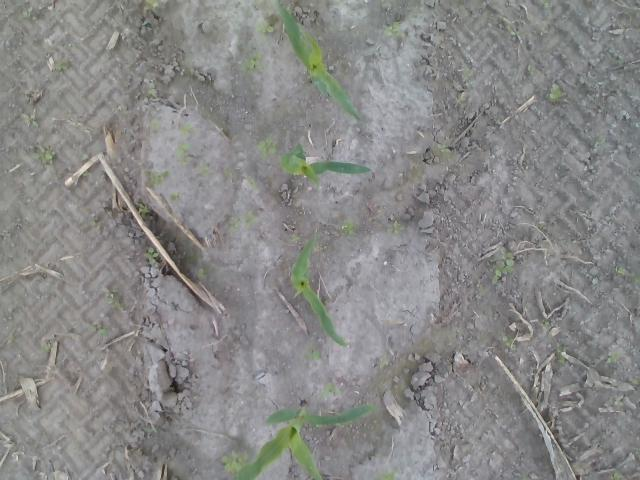Maize: (234, 400, 376, 480), (272, 0, 362, 124), (288, 236, 347, 347), (279, 144, 372, 188)
Weeds: (492, 248, 514, 282), (220, 447, 246, 471), (240, 50, 264, 72), (256, 136, 278, 160), (228, 210, 256, 228), (144, 170, 169, 188), (383, 20, 406, 38), (176, 140, 190, 168), (320, 383, 342, 400), (105, 292, 122, 310), (545, 82, 562, 100), (342, 216, 356, 236), (90, 324, 110, 336), (40, 146, 56, 161), (22, 113, 39, 127), (144, 248, 160, 262), (387, 219, 401, 234), (255, 22, 272, 34), (556, 344, 566, 364), (246, 174, 257, 192), (416, 338, 429, 353), (382, 469, 399, 480), (180, 122, 193, 136), (613, 264, 626, 278), (303, 350, 320, 360), (196, 268, 210, 280), (607, 350, 621, 362), (194, 164, 208, 176), (434, 144, 450, 153), (142, 0, 158, 9), (607, 398, 624, 406), (502, 336, 514, 347), (526, 63, 536, 76), (40, 343, 54, 352), (608, 471, 622, 480), (394, 382, 406, 392), (150, 117, 160, 129), (57, 62, 68, 72), (222, 167, 232, 177), (137, 202, 144, 214), (539, 319, 549, 327), (171, 192, 179, 202), (540, 0, 550, 8), (632, 274, 640, 284), (632, 446, 640, 455), (631, 378, 640, 386), (291, 233, 300, 241), (380, 357, 386, 368), (80, 153, 86, 160)
